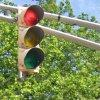traffic lights: (17, 5, 44, 76)
